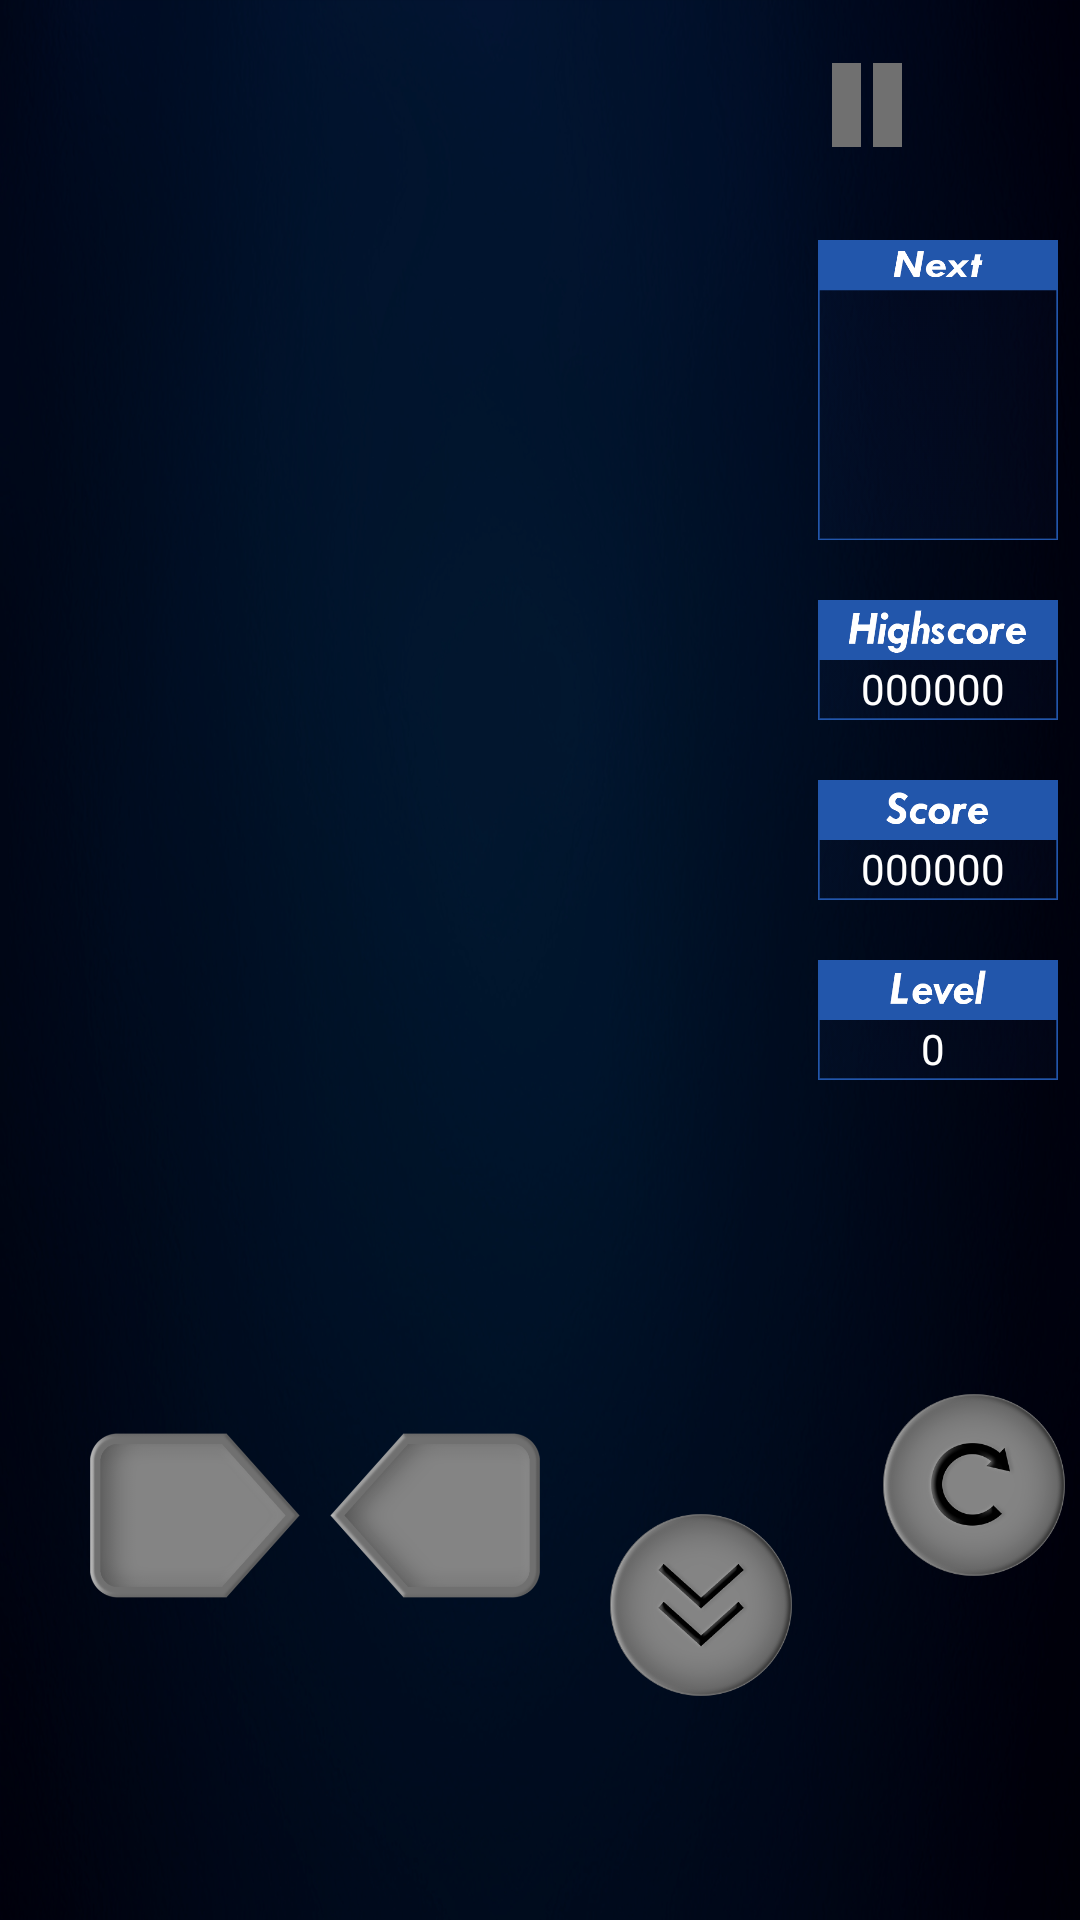

Named icons in this screenshot (1080px×1920px) and their bounding boxes, [x1, y1, x2, y2]:
custom downbutton: [610, 1514, 792, 1696]
